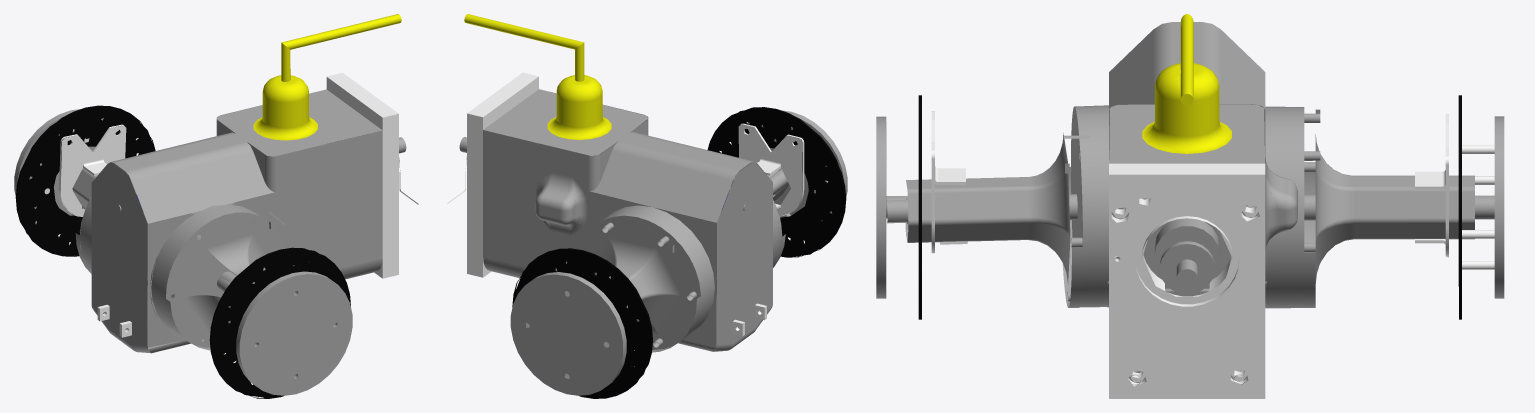
The model's file is cub_cadet_transaxle_8x.glb.
3 views of the same model, side by side, from view 1: azimuth 30°, elevation 25°; view 2: azimuth 150°, elevation 25°; view 3: azimuth 270°, elevation 25° (orthographic). The views are drawn at different scales.
Parts seen in each view (by area): view 1: Shape_IndexedFaceSet4507, Shape_IndexedFaceSet4715, Shape_IndexedFaceSet4512, Shape_IndexedFaceSet5437, Shape_IndexedFaceSet4517, Shape_IndexedFaceSet6455, Shape_IndexedFaceSet4508, Shape_IndexedFaceSet4519.001, Shape_IndexedFaceSet6508, Shape_IndexedFaceSet5523, Shape_IndexedFaceSet4649.001, Shape_IndexedFaceSet4520.001 (+19 smaller); view 2: Shape_IndexedFaceSet4509, Shape_IndexedFaceSet4700, Shape_IndexedFaceSet4512, Shape_IndexedFaceSet6454, Shape_IndexedFaceSet4513, Shape_IndexedFaceSet5438, Shape_IndexedFaceSet4508, Shape_IndexedFaceSet4519, Shape_IndexedFaceSet6510, Shape_IndexedFaceSet6449, Shape_IndexedFaceSet4520, Shape_IndexedFaceSet4533 (+18 smaller); view 3: Shape_IndexedFaceSet6507, Shape_IndexedFaceSet4508, Shape_IndexedFaceSet4520.001, Shape_IndexedFaceSet4520, Shape_IndexedFaceSet4661, Shape_IndexedFaceSet4659.001, Shape_IndexedFaceSet4517, Shape_IndexedFaceSet4513, Shape_IndexedFaceSet4521, Shape_IndexedFaceSet4703, Shape_IndexedFaceSet6511, Shape_IndexedFaceSet4664.001 (+34 smaller).
Part boxes in pixels (x1,y1,x2,y2): Shape_IndexedFaceSet4507: [147, 130, 382, 347]; Shape_IndexedFaceSet4715: [239, 274, 352, 395]; Shape_IndexedFaceSet4512: [91, 162, 147, 345]; Shape_IndexedFaceSet5437: [17, 107, 155, 256]; Shape_IndexedFaceSet4517: [132, 152, 274, 223]; Shape_IndexedFaceSet6455: [212, 248, 349, 398]; Shape_IndexedFaceSet4508: [115, 89, 382, 170]; Shape_IndexedFaceSet4519.001: [166, 212, 284, 347]; Shape_IndexedFaceSet6508: [382, 114, 398, 278]; Shape_IndexedFaceSet5523: [60, 125, 126, 216]; Shape_IndexedFaceSet4649.001: [166, 212, 282, 347]; Shape_IndexedFaceSet4520.001: [151, 203, 263, 296]; Shape_IndexedFaceSet4509: [483, 130, 716, 347]; Shape_IndexedFaceSet4700: [510, 274, 622, 395]; Shape_IndexedFaceSet4512: [717, 161, 772, 344]; Shape_IndexedFaceSet6454: [708, 108, 844, 257]; Shape_IndexedFaceSet4513: [590, 151, 732, 222]; Shape_IndexedFaceSet5438: [512, 249, 651, 398]; Shape_IndexedFaceSet4508: [483, 89, 749, 170]; Shape_IndexedFaceSet4519: [579, 215, 700, 349]; Shape_IndexedFaceSet6510: [467, 113, 482, 277]; Shape_IndexedFaceSet6449: [738, 124, 802, 216]; Shape_IndexedFaceSet4520: [596, 205, 714, 297]; Shape_IndexedFaceSet4533: [612, 141, 739, 180]; Shape_IndexedFaceSet6507: [1109, 174, 1265, 398]; Shape_IndexedFaceSet4508: [1109, 22, 1264, 163]; Shape_IndexedFaceSet4520.001: [1074, 105, 1109, 249]; Shape_IndexedFaceSet4520: [1265, 106, 1304, 250]; Shape_IndexedFaceSet4661: [1354, 191, 1474, 217]; Shape_IndexedFaceSet4659.001: [907, 191, 1028, 219]; Shape_IndexedFaceSet4517: [1109, 30, 1153, 108]; Shape_IndexedFaceSet4513: [1221, 30, 1265, 109]; Shape_IndexedFaceSet4521: [1265, 250, 1304, 308]; Shape_IndexedFaceSet4703: [1494, 125, 1504, 298]; Shape_IndexedFaceSet6511: [1109, 163, 1265, 174]; Shape_IndexedFaceSet4664.001: [907, 223, 1028, 241].
Bounding box in the file's own units: 0.9189 × 0.7887 × 1.26.
